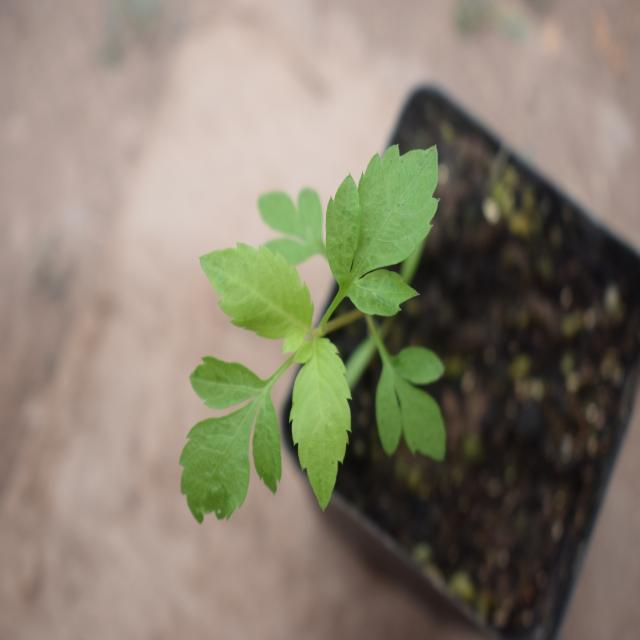Bidens pilosa: (165, 128, 449, 526)
